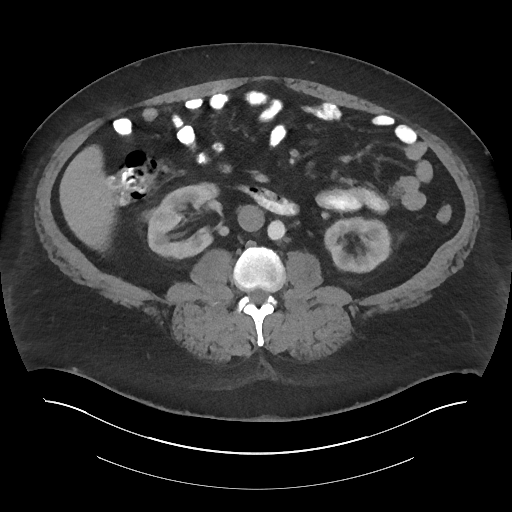Lesion: (137, 208, 160, 223)
